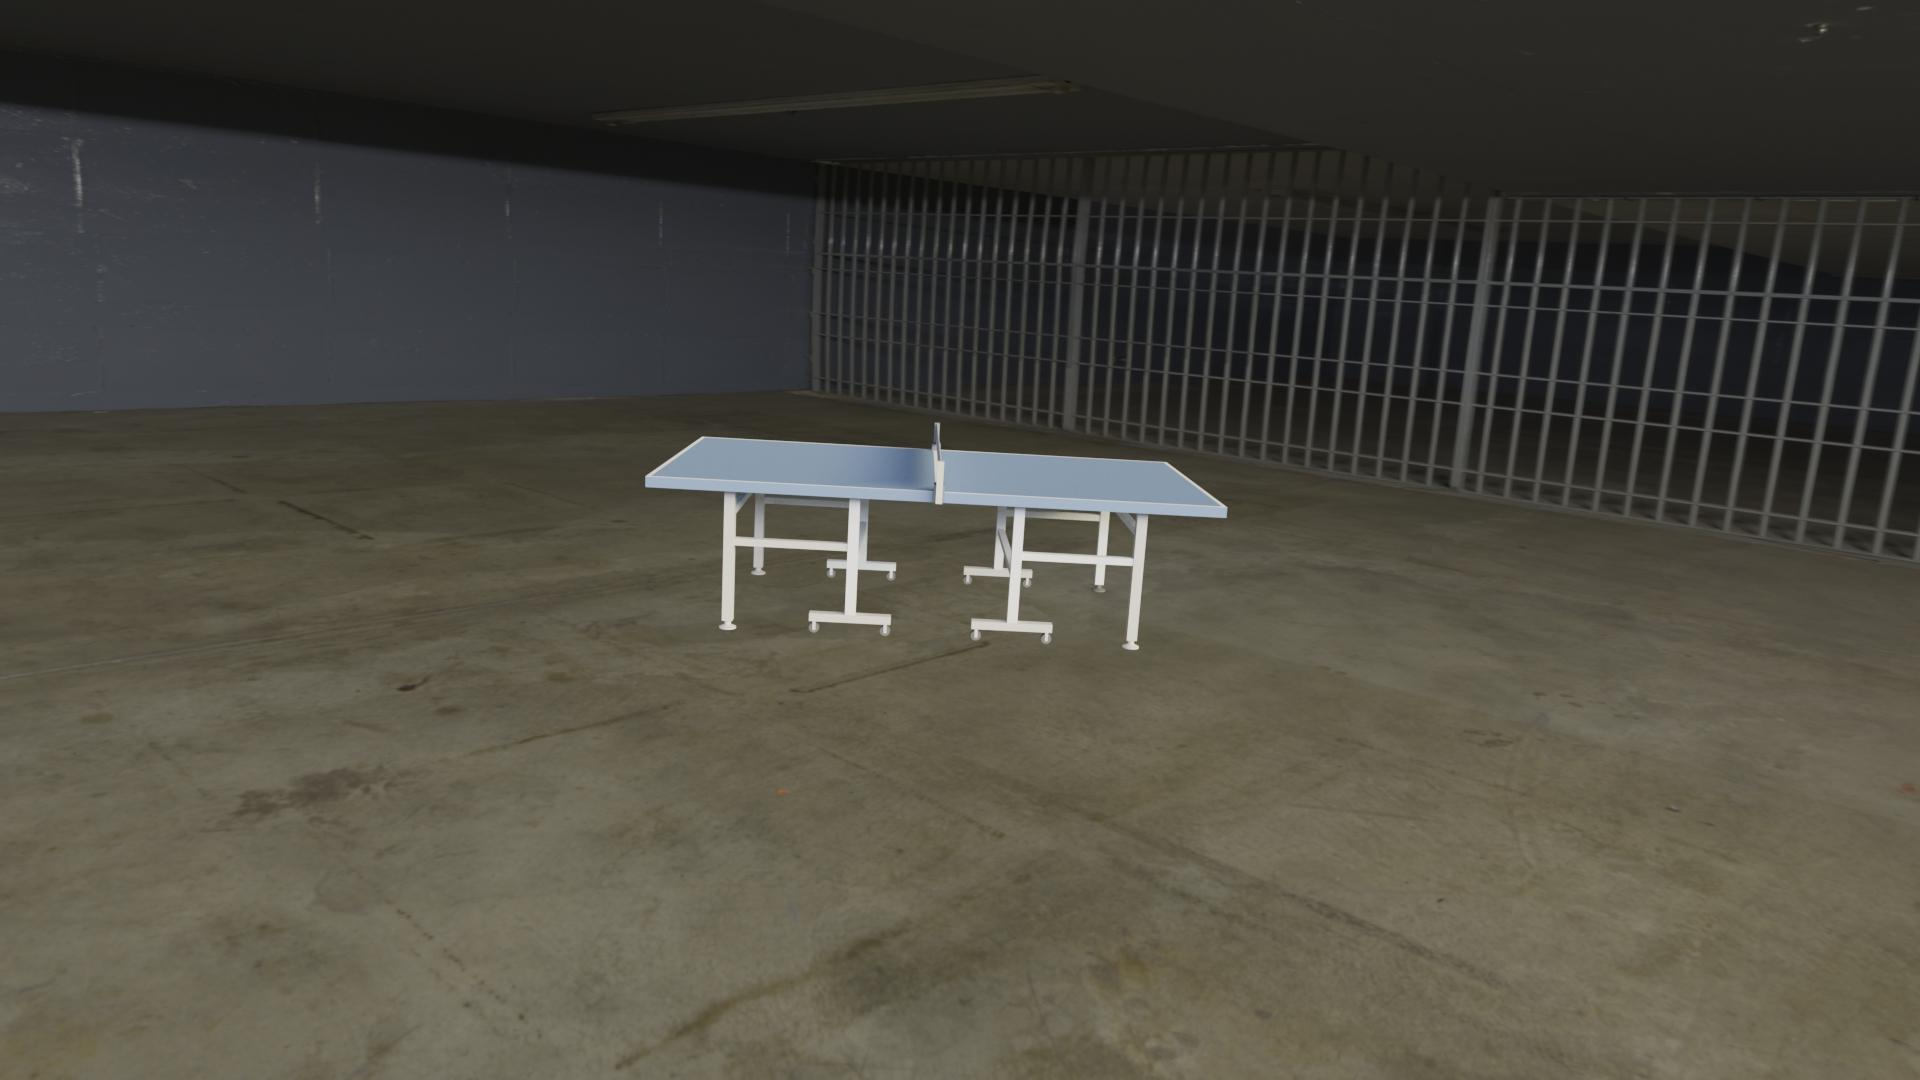table: (650, 438, 1222, 506)
